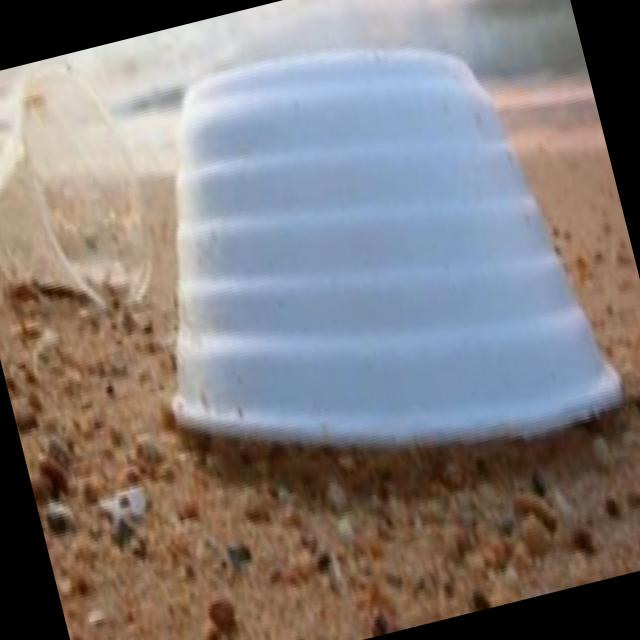electronic: (92, 0, 630, 521)
